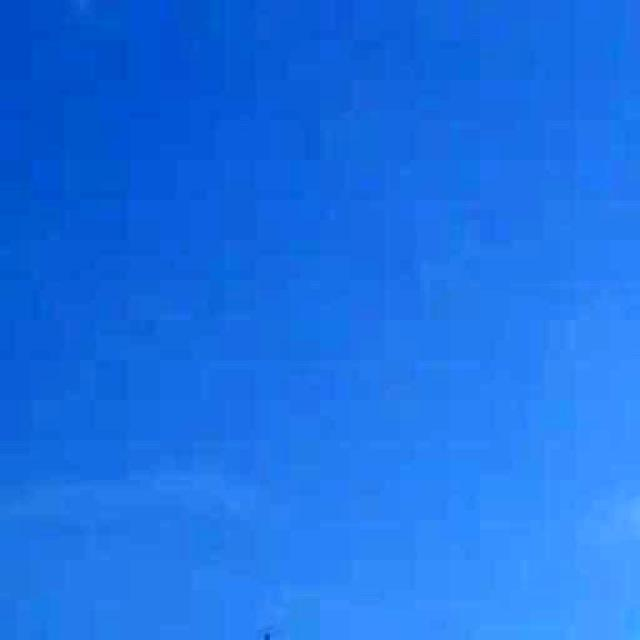drone: (248, 616, 290, 640)
